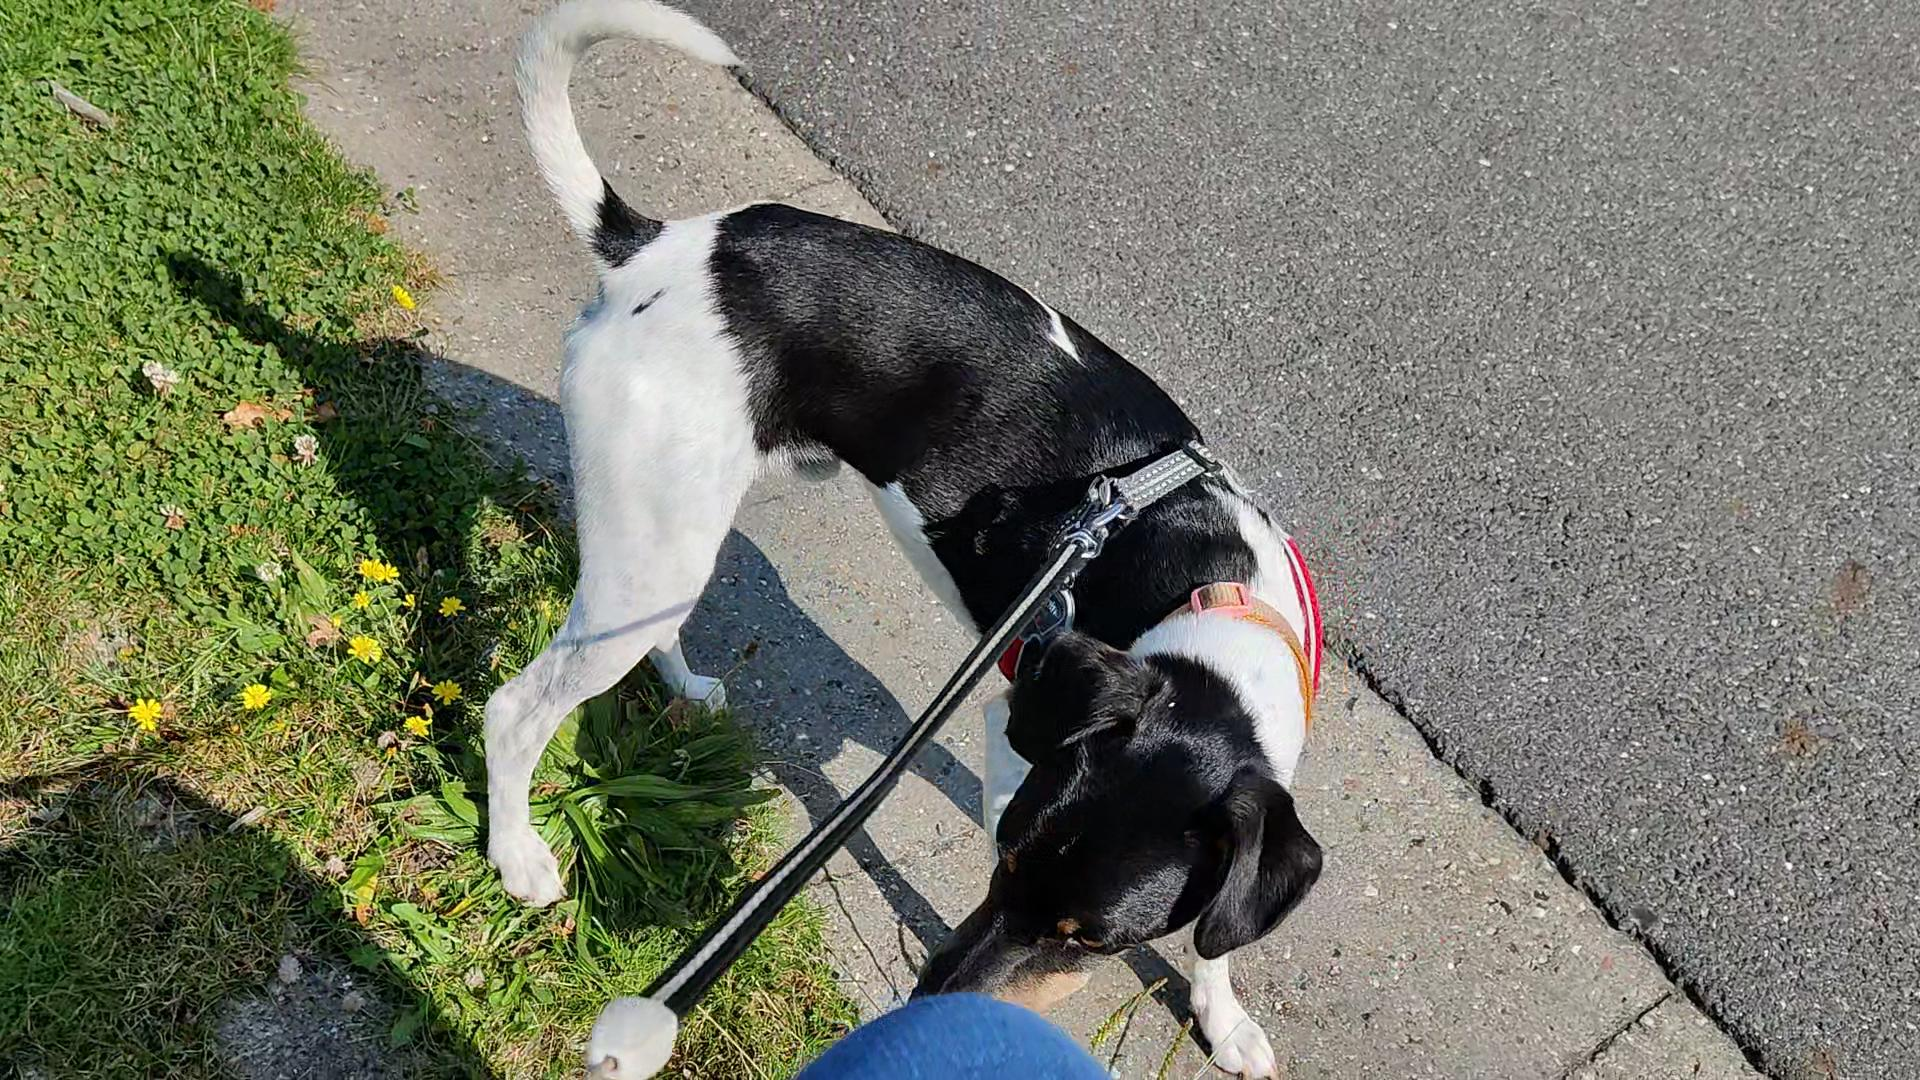Dog: (468, 0, 1338, 1080)
